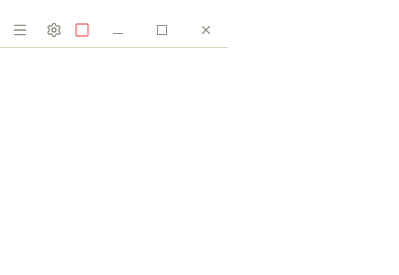
Scenario: TitleBar — Hamburger menu › tb-7: hovering File section reveals its items
Click the button named "open menu" at (20, 30), box 6,16 -> 34,44
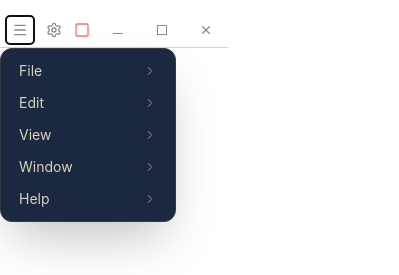
Hover over the button "File" at (88, 70), box 7,54 -> 169,86
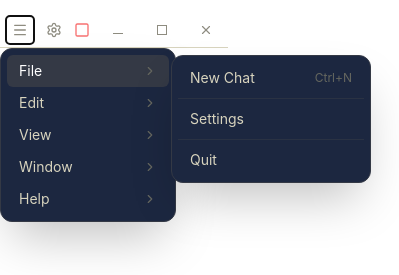
expect the text "New Chat" is shown: met, box 190,68 -> 255,88
expect the text "Settings" is shown: met, box 190,108 -> 244,128
expect the text "Quit" is shown: met, box 190,150 -> 217,170
